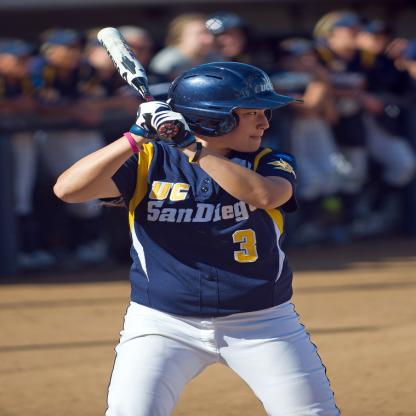Helmet: (156, 62, 290, 144)
